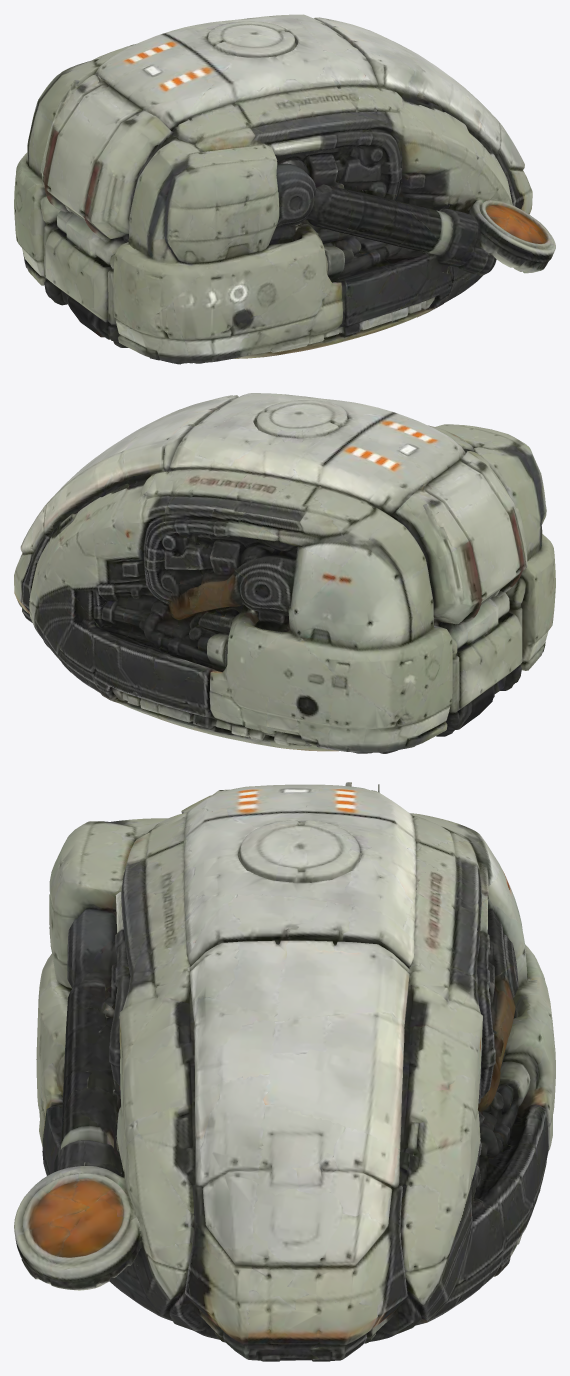
Rendered from arc-patchbay-lean.glb.
The picture shows the model from 3 angles, top to bottom: view 1: azimuth 30°, elevation 25°; view 2: azimuth 150°, elevation 25°; view 3: azimuth 270°, elevation 25°; orthographic projection. The views are drawn at different scales.
Visible parts, largest first — view 1: chassis; view 2: chassis; view 3: chassis.
Part boxes in pixels (x1,y1,x2,y2): chassis: [14, 14, 555, 364]; chassis: [14, 393, 555, 753]; chassis: [14, 782, 555, 1361].
Size of the model in its own units: 0.9898 by 0.6048 by 0.7352.
1 material, 1 textured.
